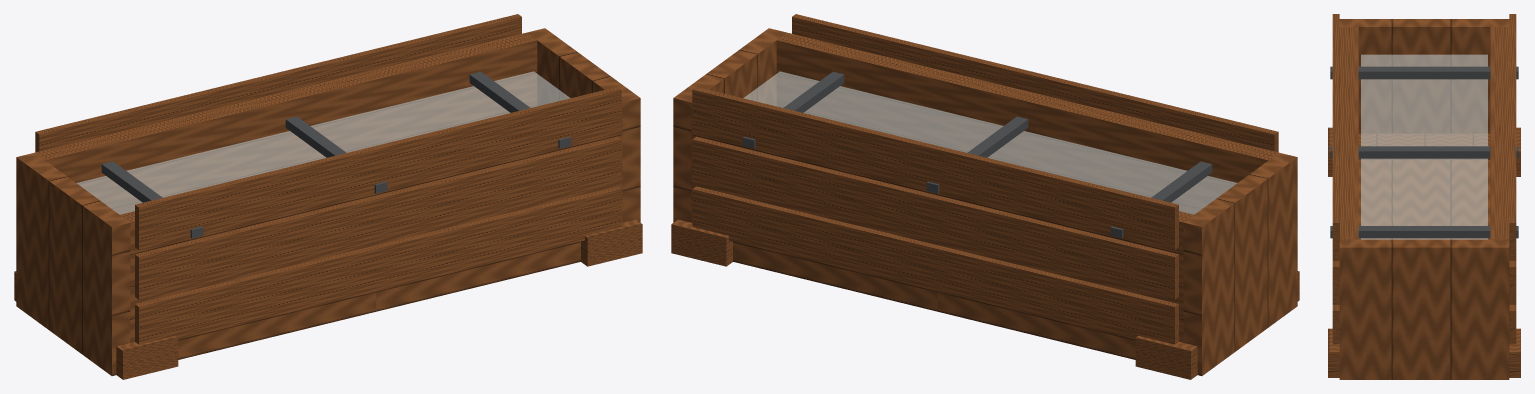
File: trough.glb
3 renders of one model, left to right at view 1: azimuth 30°, elevation 25°; view 2: azimuth 150°, elevation 25°; view 3: azimuth 270°, elevation 25°, orthographic. The views are drawn at different scales.
Visible parts, largest first — view 1: water-trough; view 2: water-trough; view 3: water-trough.
Part boxes in pixels (x1,y1,x2,y2): water-trough: (14,14,642,379); water-trough: (671,14,1299,379); water-trough: (1328,14,1520,379).
Size of the model in its own units: 2.3 by 0.6899 by 0.8199.
3 materials, 1 textured.
